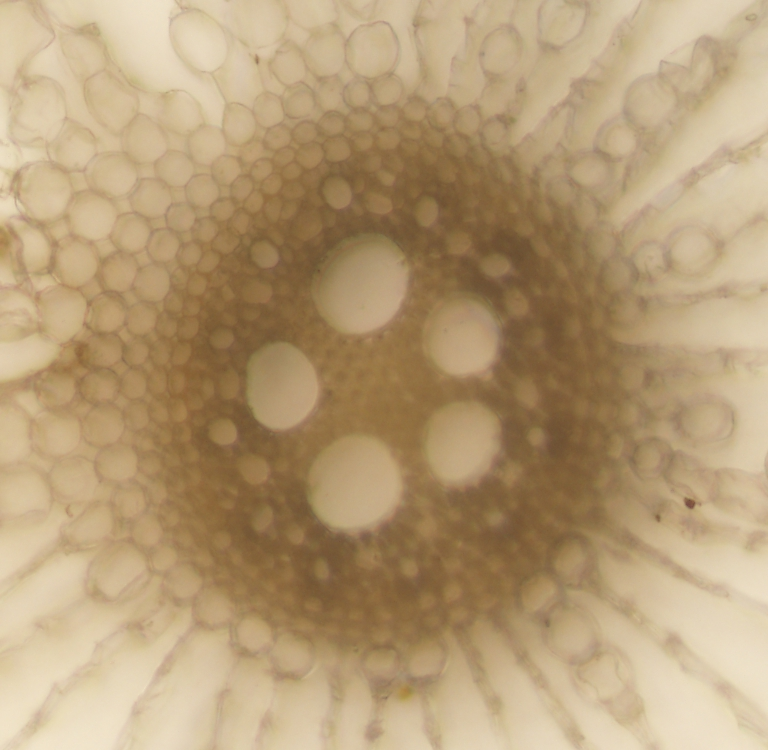lm: (310, 232, 409, 336), (305, 433, 402, 535), (420, 398, 501, 486), (420, 289, 501, 376), (245, 340, 318, 431)
